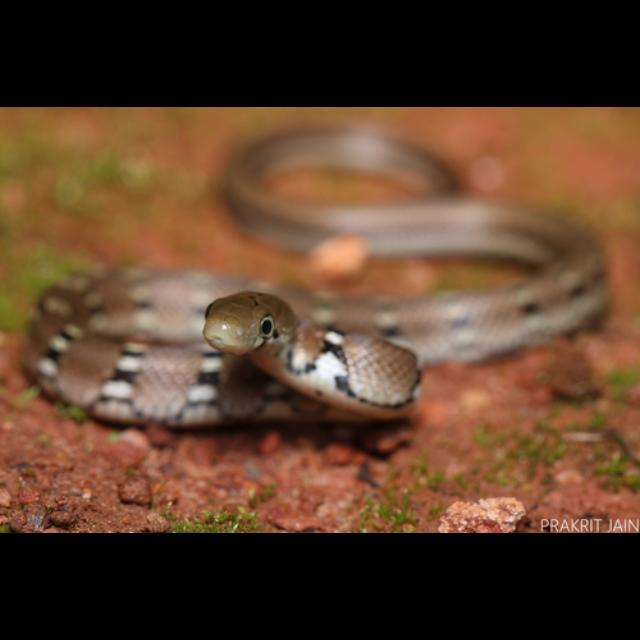snake: (22, 125, 616, 442)
